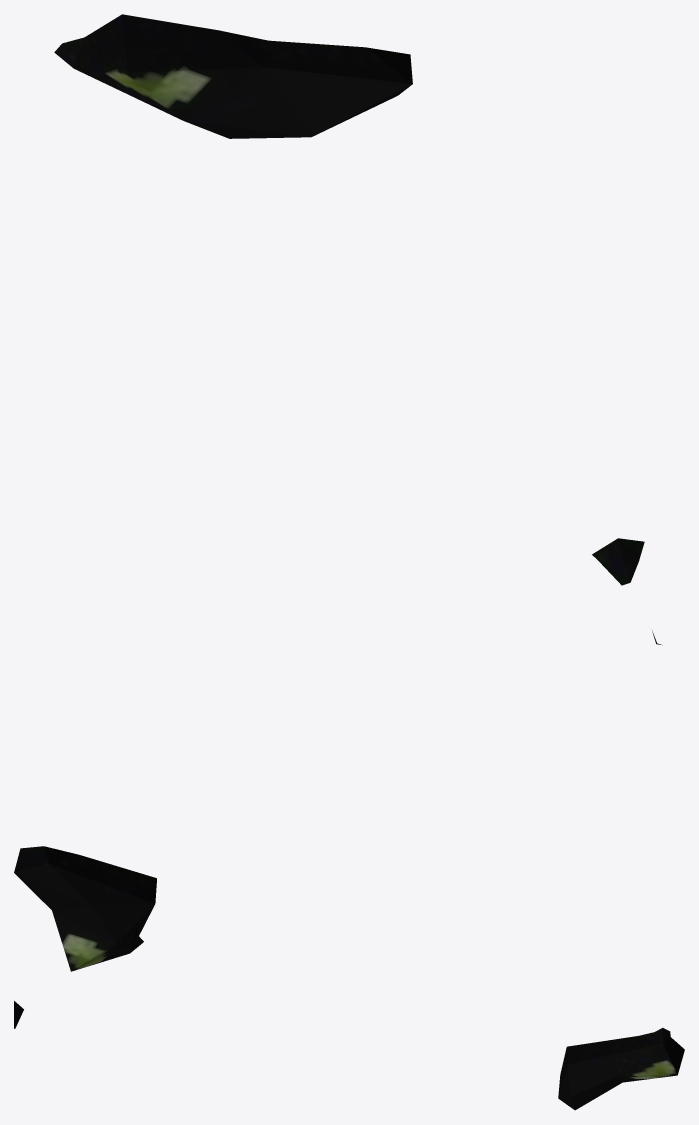
3 renders of one model, top to bottom at view 1: azimuth 30°, elevation 25°; view 2: azimuth 150°, elevation 25°; view 3: azimuth 270°, elevation 25°, orthographic. The views are drawn at different scales.
Size of the model in its own units: 0.728 by 0.1049 by 2.21.
Materials: 1 (1 with a texture image).
